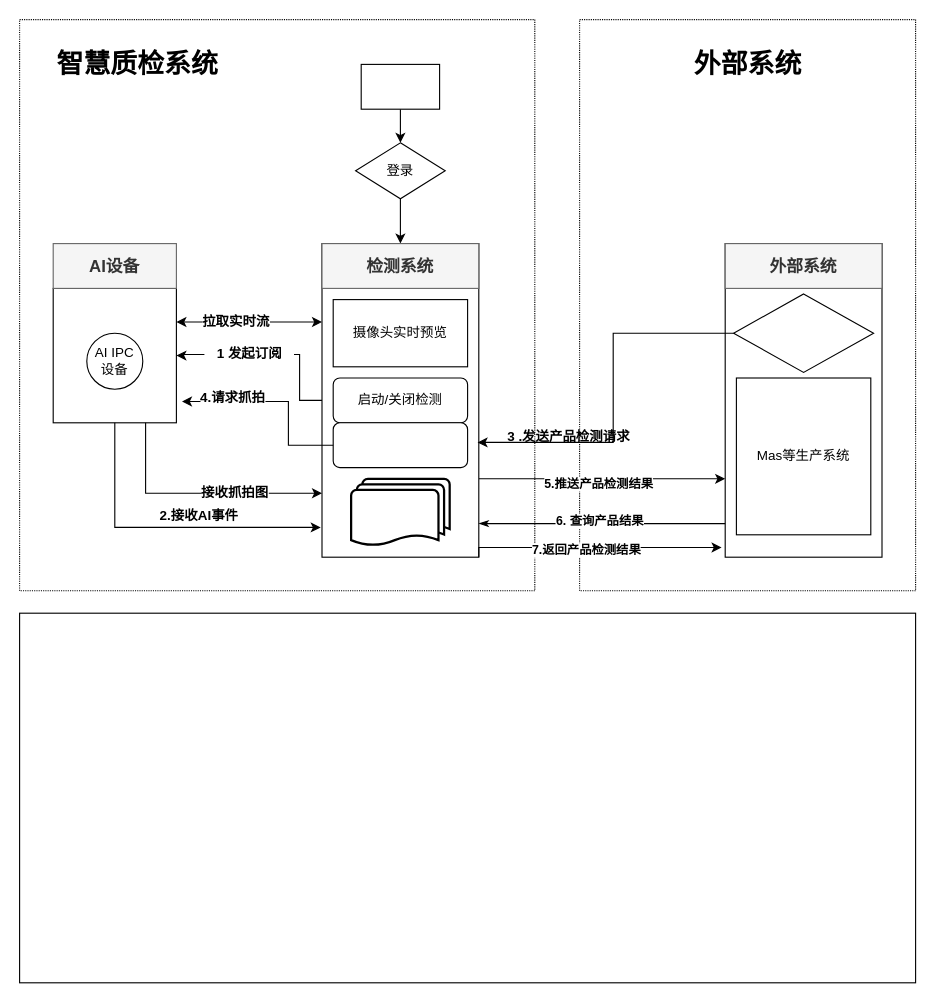
The diagram is 935 pixels wide and 1002 high, and some of its shapes have lost their labels. Here are the shapes that lost their labels. From the top down, the centre of each, then its label:
point (400, 86): 操作员
point (803, 332): 操作产品
point (400, 445): 启动抓拍
point (399, 512): 存储
point (467, 797): 1. 为而为色s 2. 2 啊的啊发 3. 的撒额头
